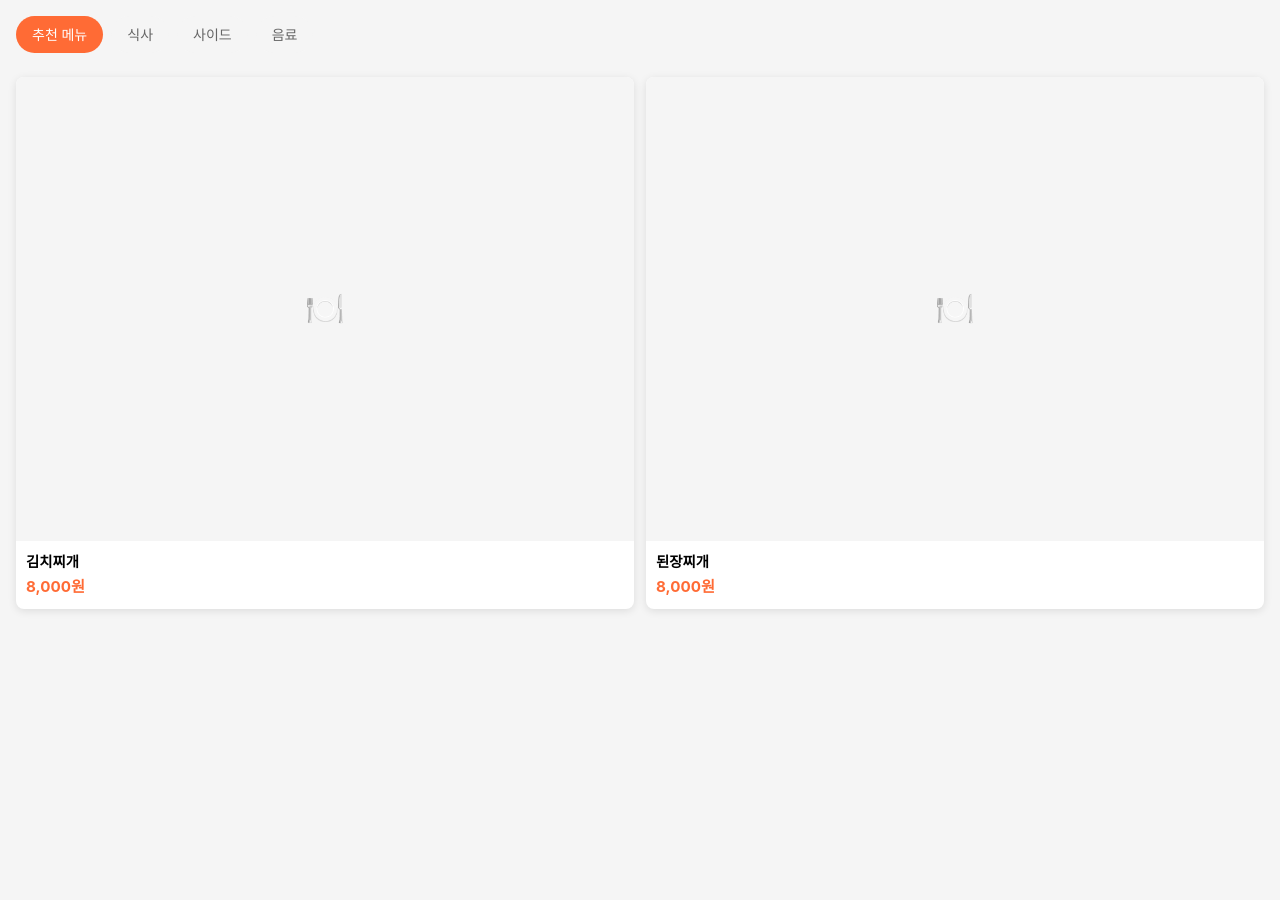
US-202: MenuPage — 메뉴 상세 모달 › 메뉴 카드 클릭 시 상세 모달이 열린다
The image size is (1280, 900).
Expected: the text "김치찌개" is shown, [26,552,79,570]
Click the button labelled "🍽️ 김치찌개 8,000원" at (325, 343), box [16,77,634,609]
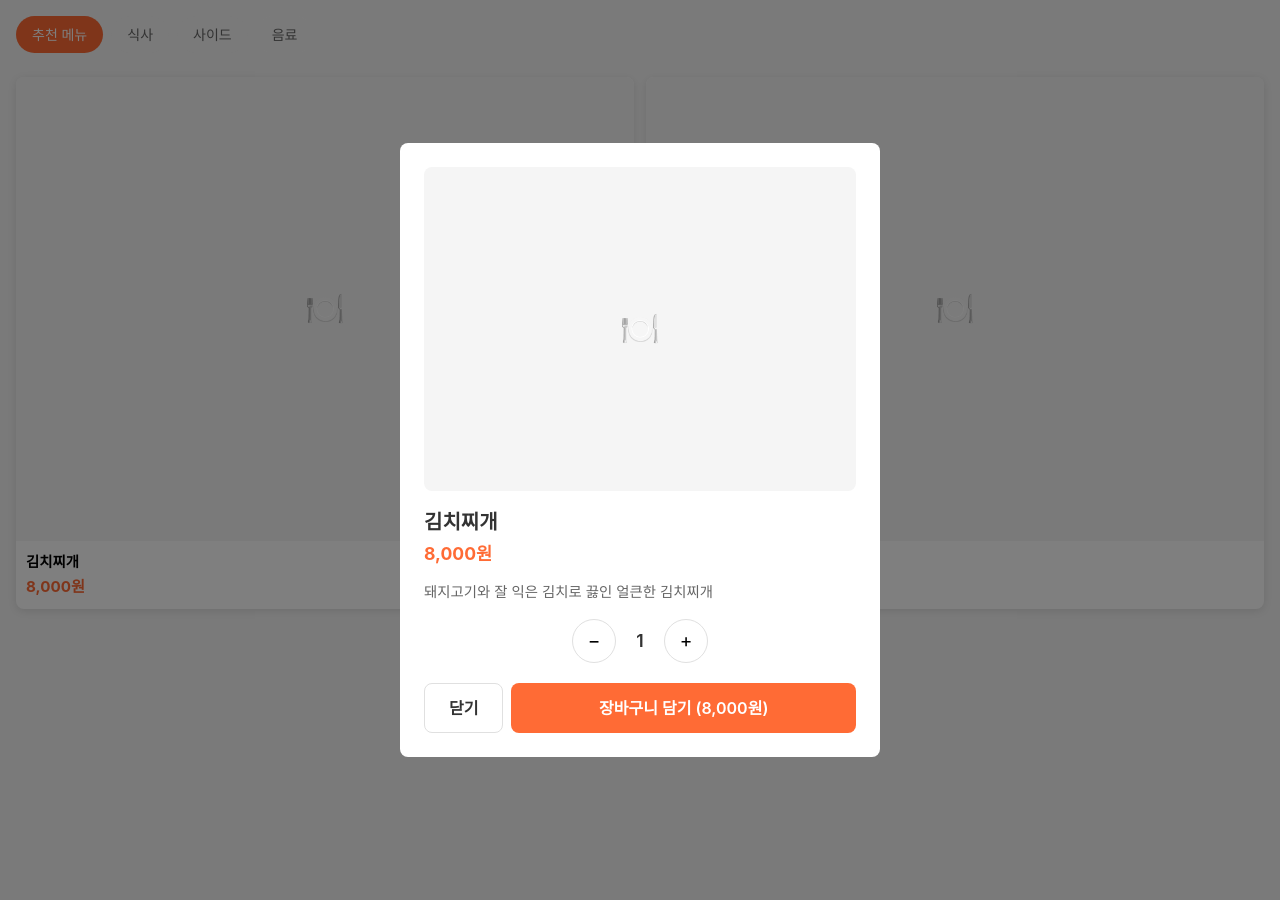
Expected: the dialog is shown
Expected: the text "돼지고기와 잘 익은 김치로 끓인 얼큰한 김치찌개" is shown, [424,583,713,600]
